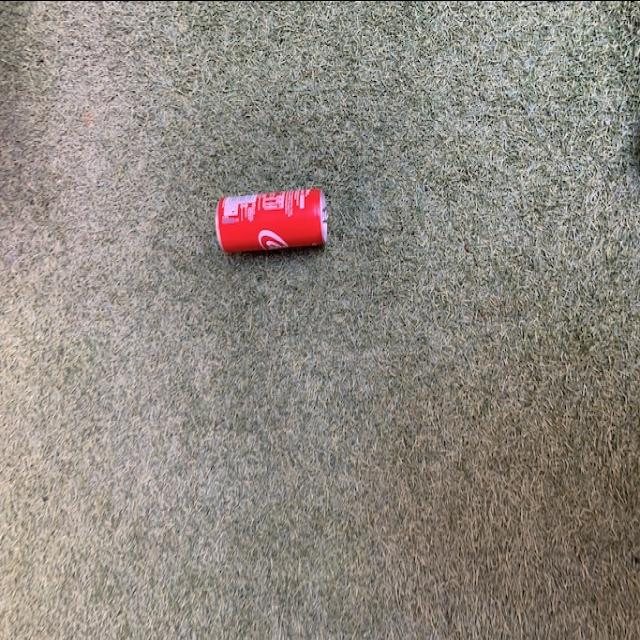Aluminum Can: (214, 178, 334, 264)
